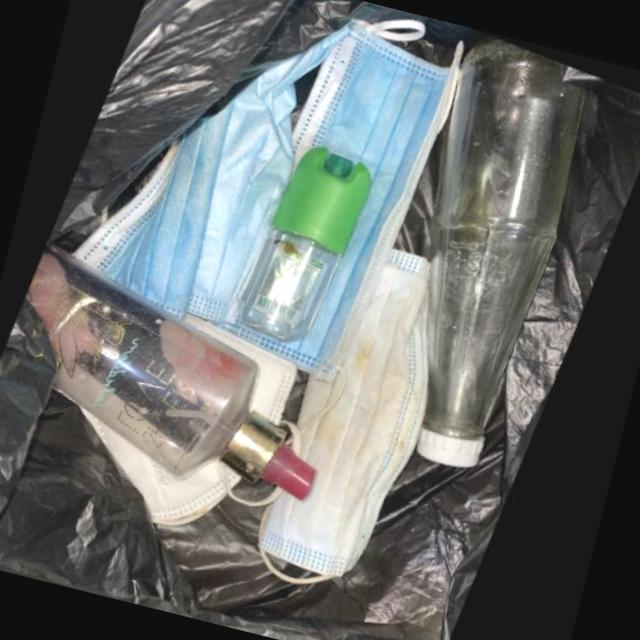chai_nhua: (34, 243, 327, 496), (244, 142, 376, 338)
chai_thuy_tinh: (426, 32, 588, 460)
khau_trang: (79, 12, 429, 323), (226, 23, 466, 378), (269, 241, 437, 579), (89, 406, 252, 523), (190, 310, 305, 422)
